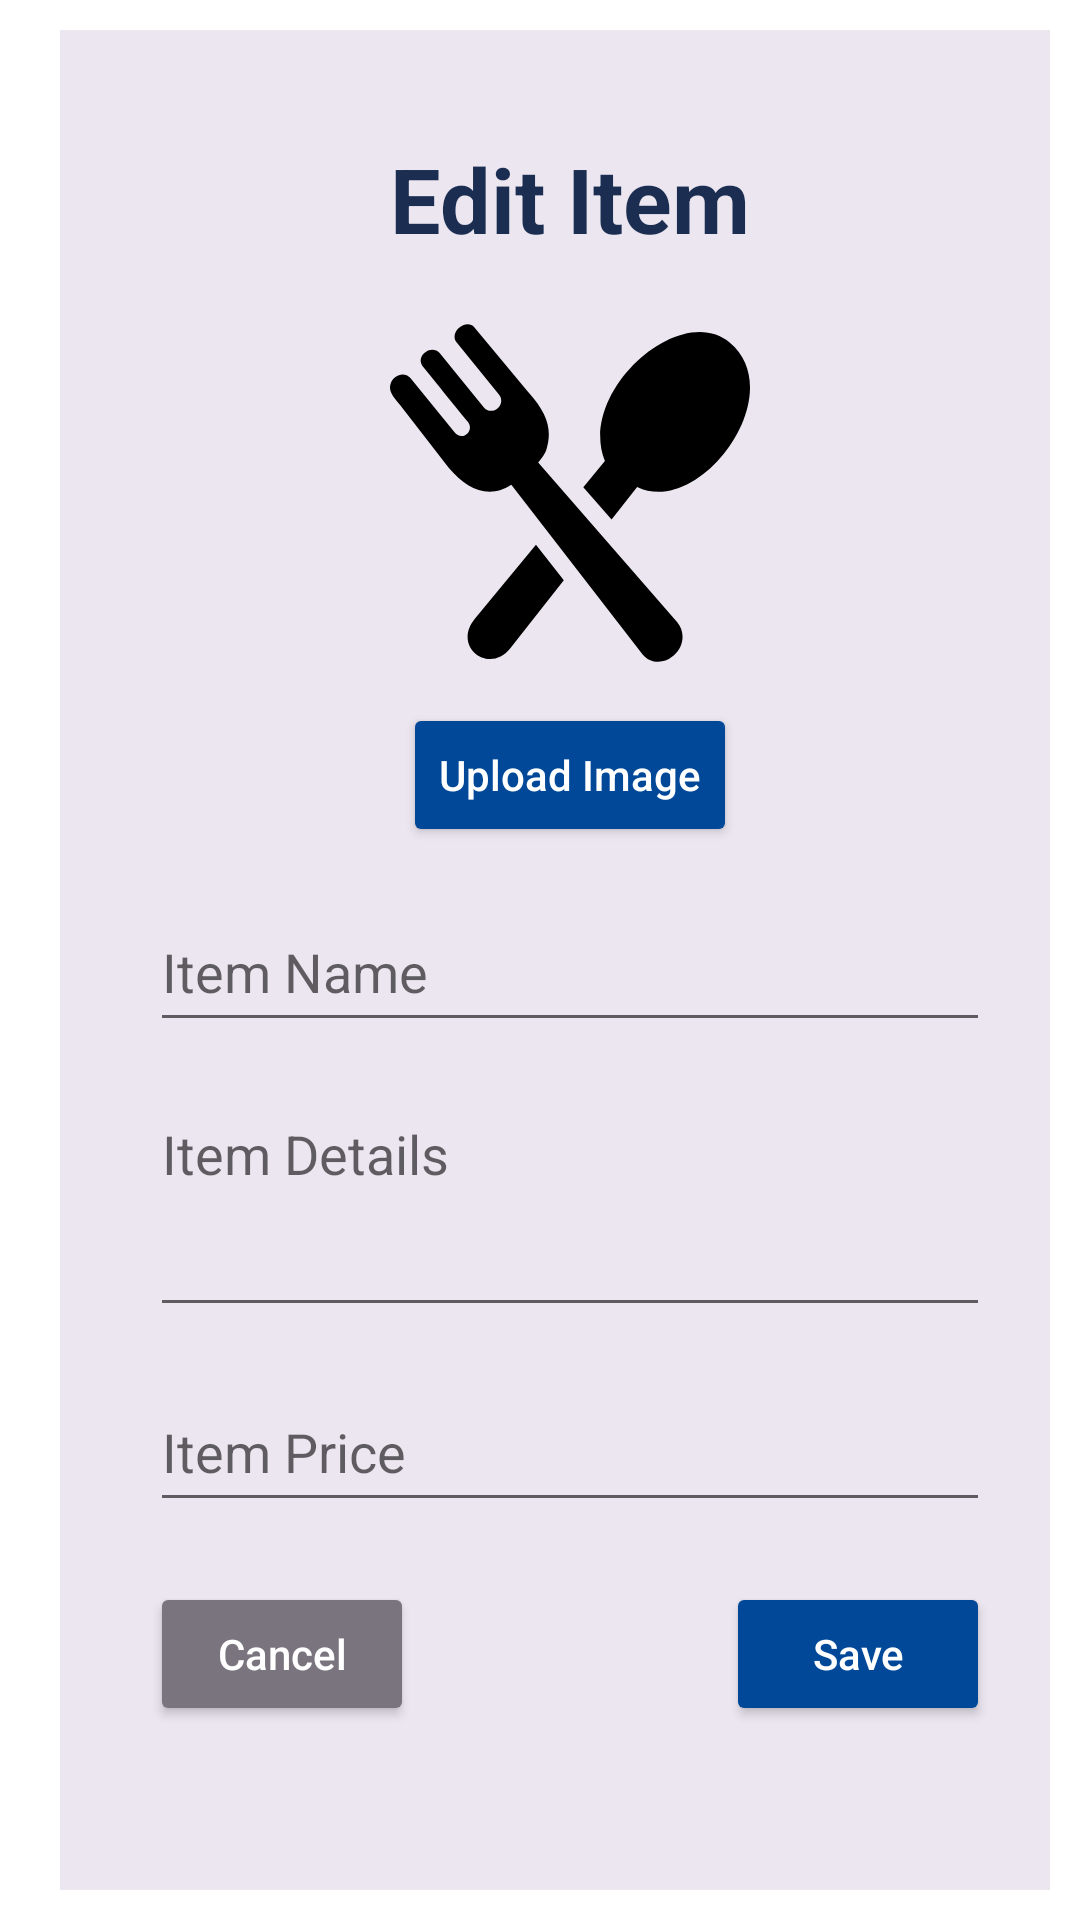

Icon bounding boxes for this 1080*1920 phone screenshot, format (x1, y1, x2, y2):
Food Image: (390, 324, 750, 662)
